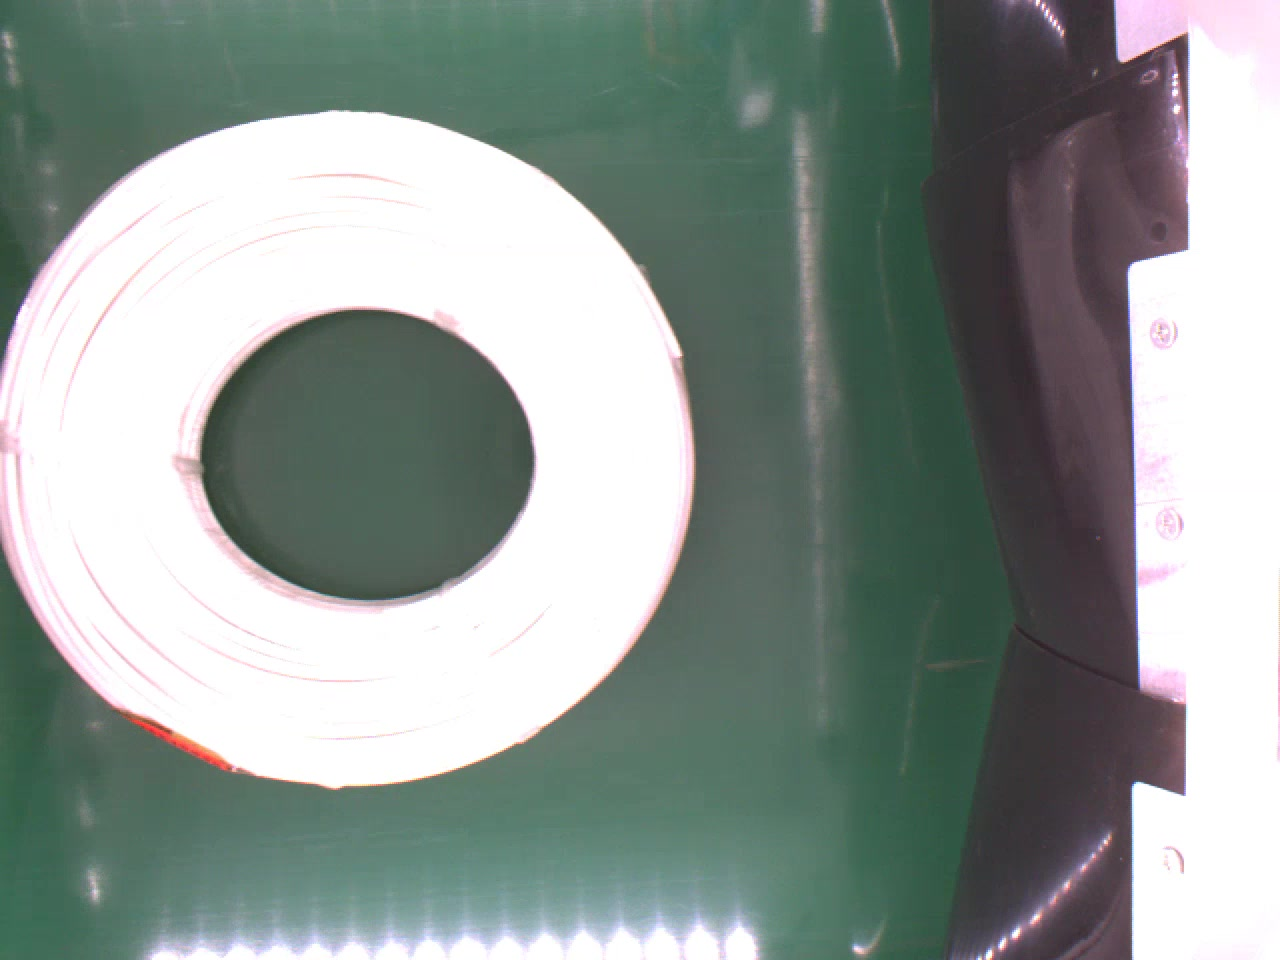white: (4, 105, 710, 807)
